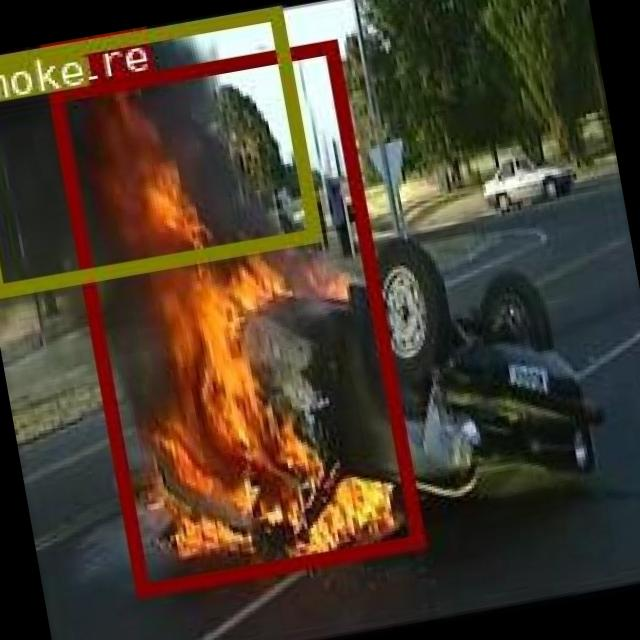fire: (46, 38, 422, 594)
smoke: (0, 3, 317, 297)
